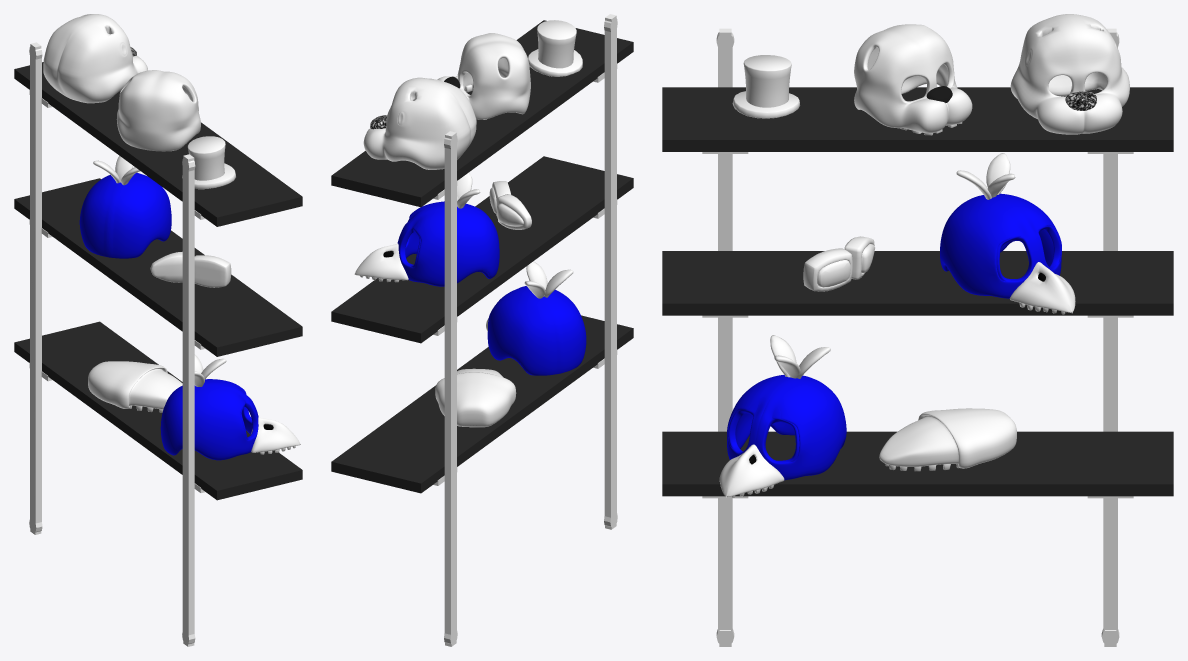
Rendered from BackstageShelf3.glb.
3 views of the same model, side by side, from view 1: azimuth 30°, elevation 25°; view 2: azimuth 150°, elevation 25°; view 3: azimuth 270°, elevation 25° (orthographic). The views are drawn at different scales.
Parts seen in each view (by area): view 1: Cube.003, Cube.002, Cube.005, Cube, RIG_Bonnie.mo.001, RIG_Chica_Finale.mo.001, RIG_FreddyForJumpscare.mo.001, RIG_Chica_Finale.mo.002, RIG_Chica_Finale.mo.006, Hat, RIG_Chica_Finale.mo.005, RIG_Bonnie.mo.003 (+1 smaller); view 2: Cube.003, Cube.002, Cube.005, Cube, RIG_Bonnie.mo.001, RIG_Chica_Finale.mo.002, RIG_Chica_Finale.mo.001, RIG_FreddyForJumpscare.mo.001, RIG_Chica_Finale.mo.006, Hat, RIG_Chica_Finale.mo.007, RIG_Bonnie.mo.005; view 3: Cube.003, Cube.005, Cube, Cube.002, RIG_Bonnie.mo.001, RIG_FreddyForJumpscare.mo.001, RIG_Chica_Finale.mo.001, RIG_Chica_Finale.mo.002, RIG_Chica_Finale.mo.006, Hat, RIG_Chica_Finale.mo.007, RIG_Chica_Finale.mo.005 (+2 smaller).
Part boxes in pixels (x1,y1,x2,y2): Cube.003: (14, 178, 302, 356); Cube.002: (29, 42, 195, 646); Cube.005: (14, 321, 302, 500); Cube: (14, 62, 302, 226); RIG_Bonnie.mo.001: (43, 14, 147, 103); RIG_Chica_Finale.mo.001: (79, 172, 171, 258); RIG_FreddyForJumpscare.mo.001: (116, 70, 200, 151); RIG_Chica_Finale.mo.002: (160, 379, 258, 460); RIG_Chica_Finale.mo.006: (88, 361, 182, 412); Hat: (182, 136, 235, 189); RIG_Chica_Finale.mo.005: (251, 417, 300, 454); RIG_Bonnie.mo.003: (194, 255, 231, 287); Cube.003: (331, 156, 633, 343); Cube.002: (444, 14, 617, 646); Cube.005: (331, 315, 633, 493); Cube: (331, 20, 633, 207); RIG_Bonnie.mo.001: (363, 77, 476, 169); RIG_Chica_Finale.mo.002: (487, 286, 586, 375); RIG_Chica_Finale.mo.001: (397, 201, 499, 286); RIG_FreddyForJumpscare.mo.001: (437, 33, 530, 119); RIG_Chica_Finale.mo.006: (435, 368, 516, 427); Hat: (528, 20, 582, 76); RIG_Chica_Finale.mo.007: (354, 243, 408, 282); RIG_Bonnie.mo.005: (497, 194, 531, 229); Cube.003: (662, 251, 1173, 315); Cube.005: (662, 431, 1173, 496); Cube: (662, 87, 1173, 151); Cube.002: (716, 28, 1119, 646); RIG_Bonnie.mo.001: (1010, 14, 1129, 134); RIG_FreddyForJumpscare.mo.001: (854, 24, 972, 135); RIG_Chica_Finale.mo.001: (940, 193, 1061, 298); RIG_Chica_Finale.mo.002: (727, 375, 846, 480); RIG_Chica_Finale.mo.006: (879, 408, 1016, 471); Hat: (732, 55, 800, 118); RIG_Chica_Finale.mo.007: (1010, 262, 1075, 314); RIG_Chica_Finale.mo.005: (719, 444, 784, 497).
Size of the model in its own units: 2.34 by 9.97 by 7.11.
Materials: 17 (2 with a texture image).
